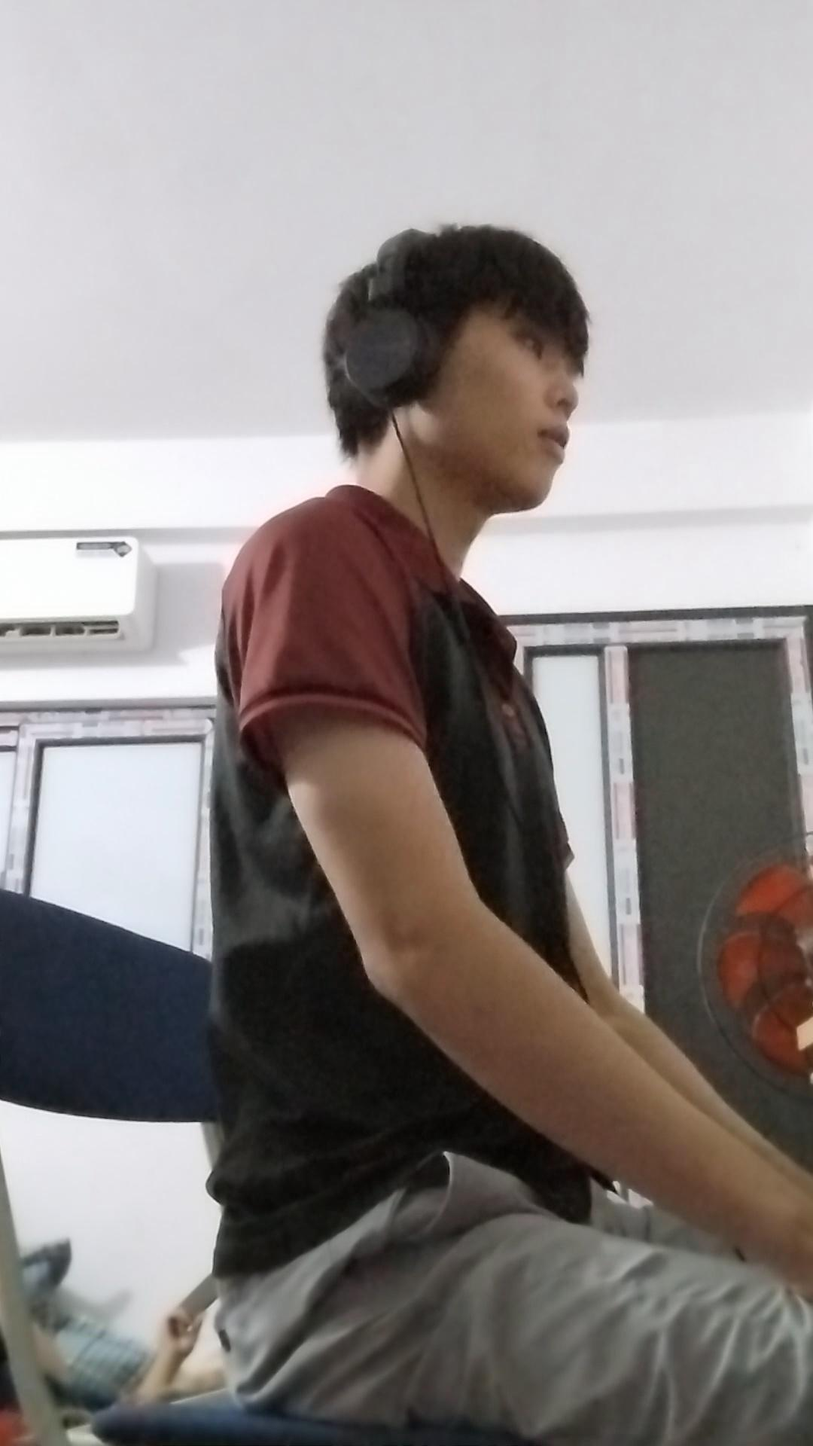GoodPosture: (210, 226, 812, 1445)
